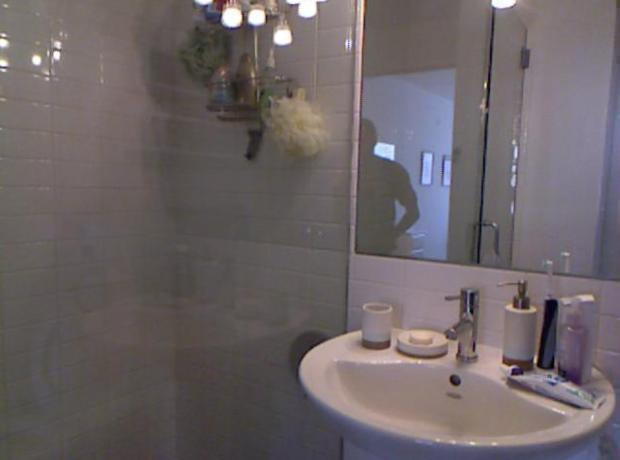Lavamanos: (294, 285, 615, 455)
